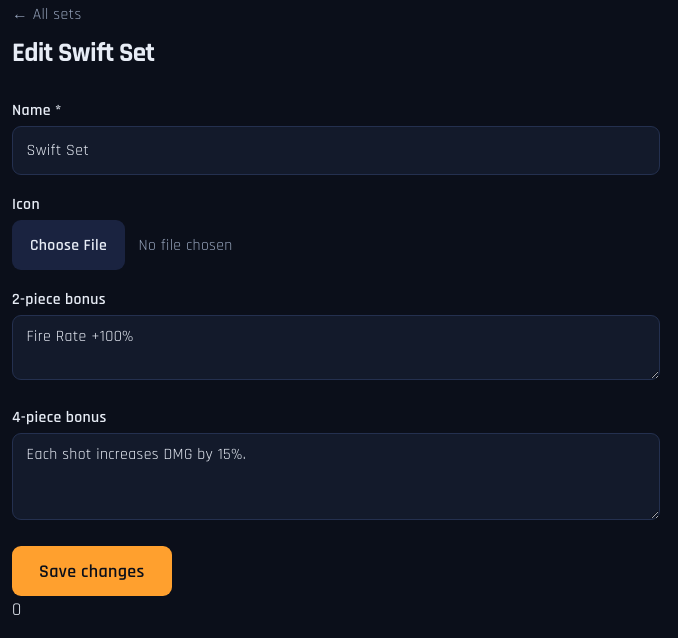
ArsenalSetFormPage › keeps unsaved edits when the list refetches in the background
Replace the text in the field labelled "Name *" with "Renamed Set" at {"x": 336, "y": 151}, box [12, 126, 660, 176]
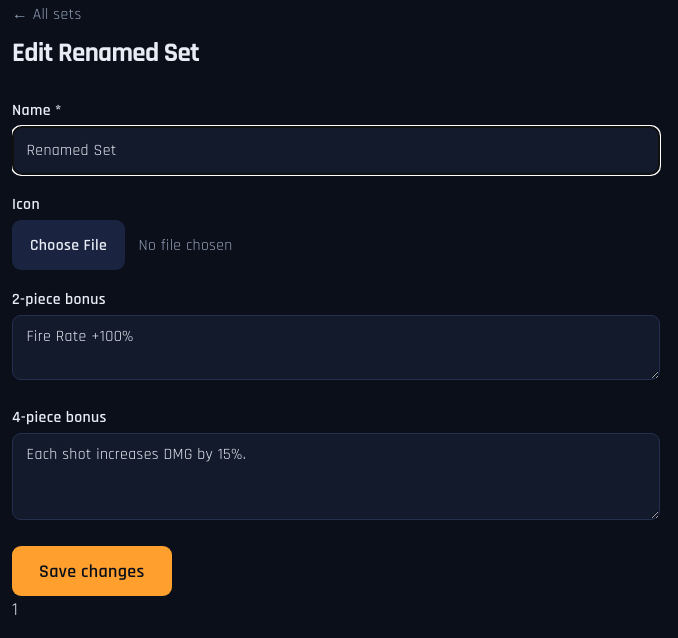
Result: the text with test id "probe" reads "1" at [12, 598, 18, 621]
